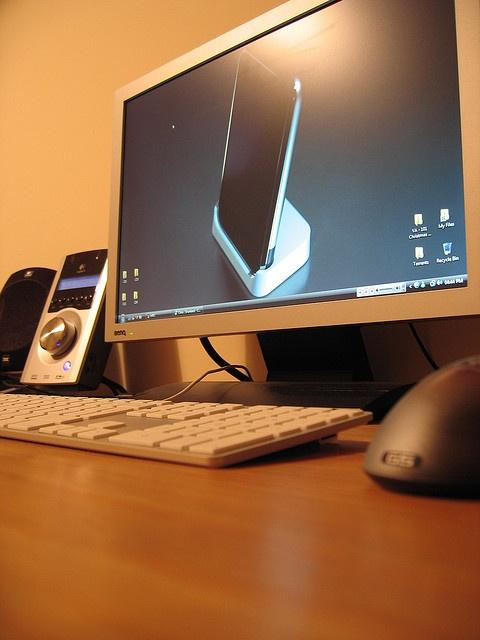AIO PC-Monitor-TV: (103, 0, 479, 351)
